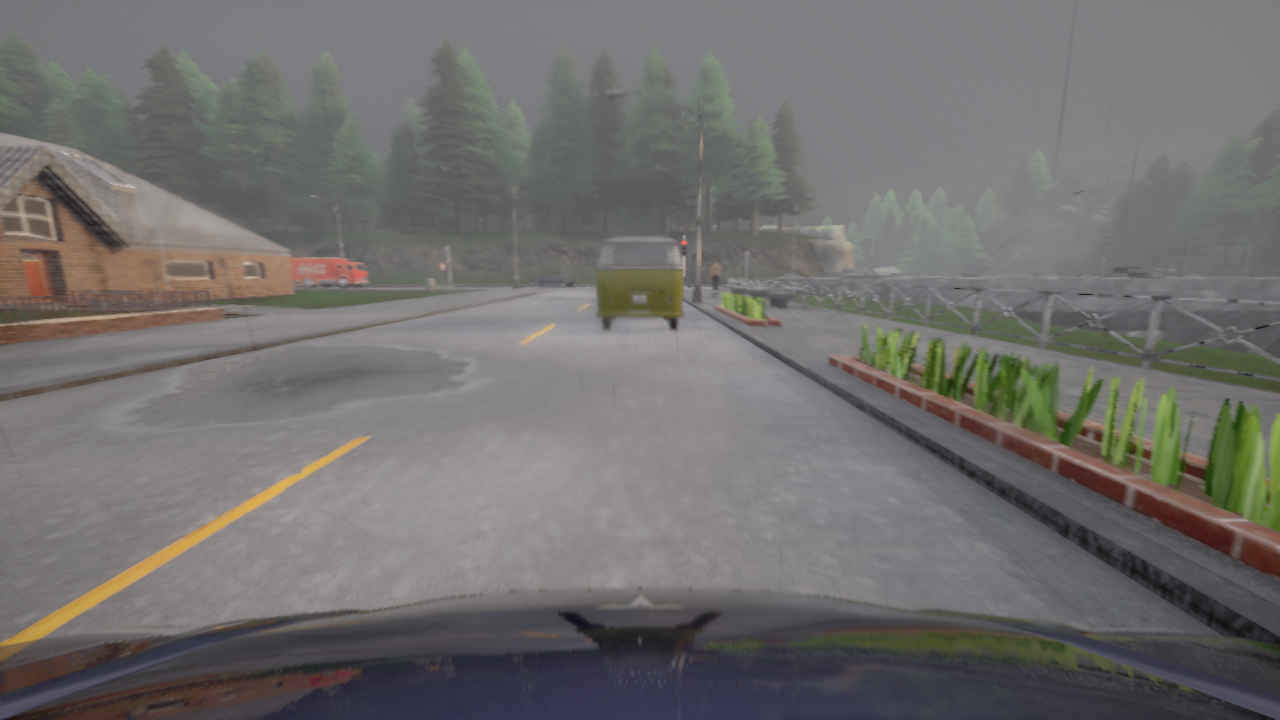cyclist: (0, 588, 1279, 719), (597, 237, 682, 329), (291, 258, 369, 287), (529, 269, 574, 287), (1111, 265, 1166, 278), (835, 268, 889, 278)
pedestrian: (710, 258, 721, 296)
